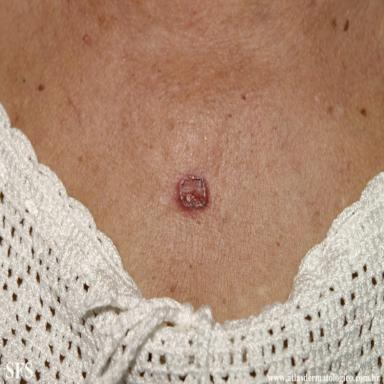basal-cell-carcinoma: (175, 173, 209, 212)
